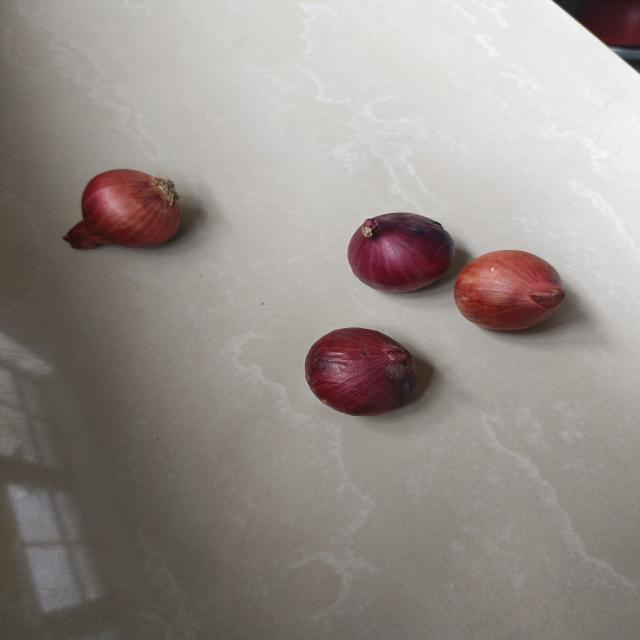onion: (301, 323, 423, 419), (59, 166, 188, 254), (453, 245, 568, 335), (345, 207, 456, 297)
